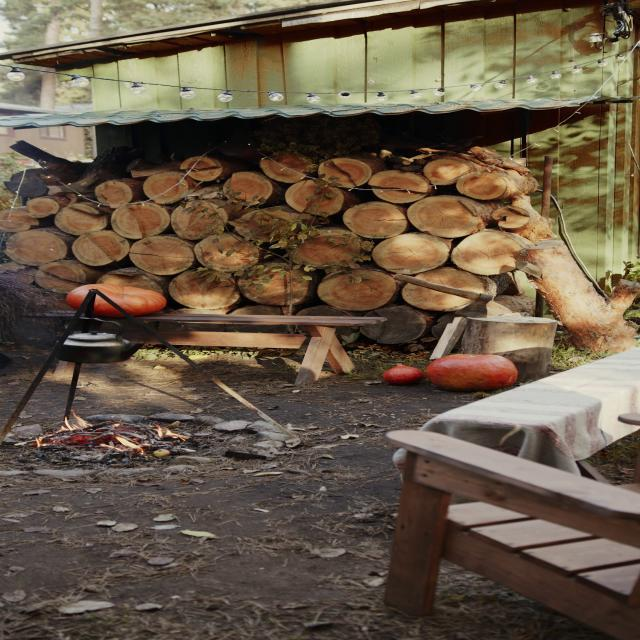Fire: (44, 410, 193, 454)
